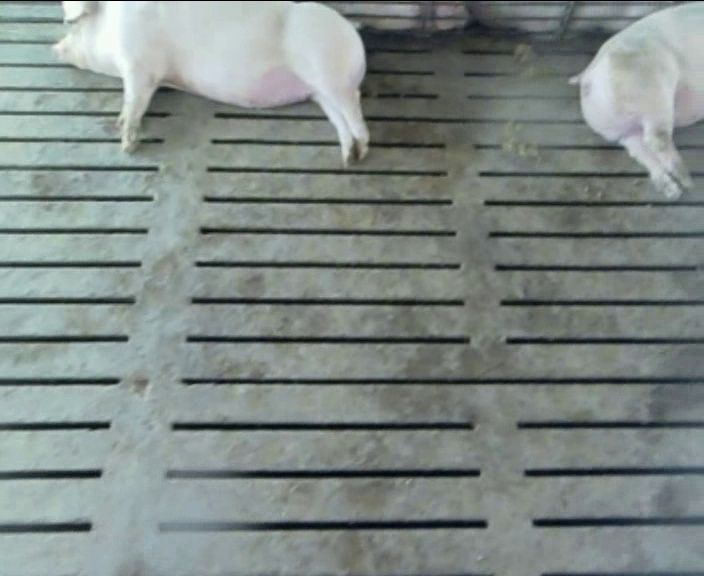pig: (54, 2, 368, 163), (569, 2, 703, 198)
